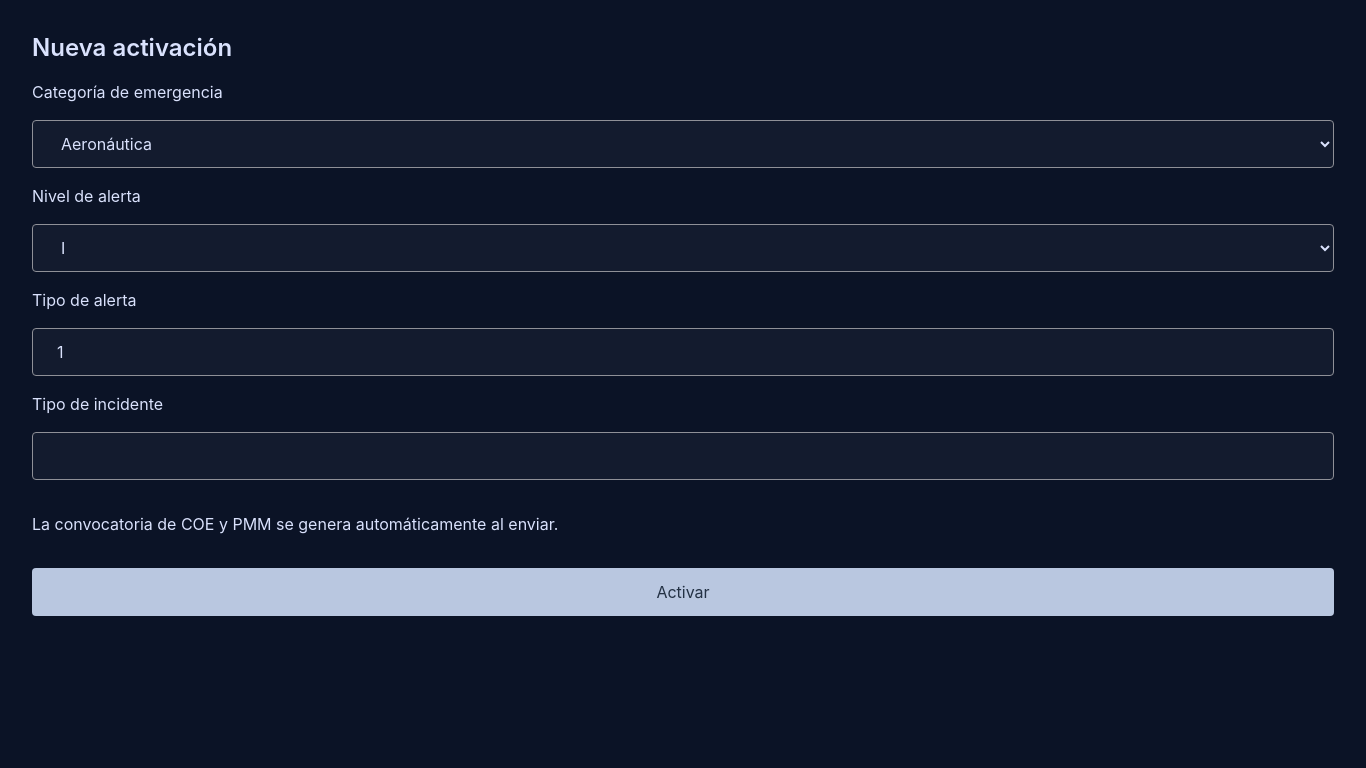
NuevaActivacionScreen › matpel: envia clasificacion_origen sin nivel_alerta/tipo_alerta
Select "MATPEL" in the dropdown labelled "Categoría de emergencia": (683, 144) [32,120,1334,168]
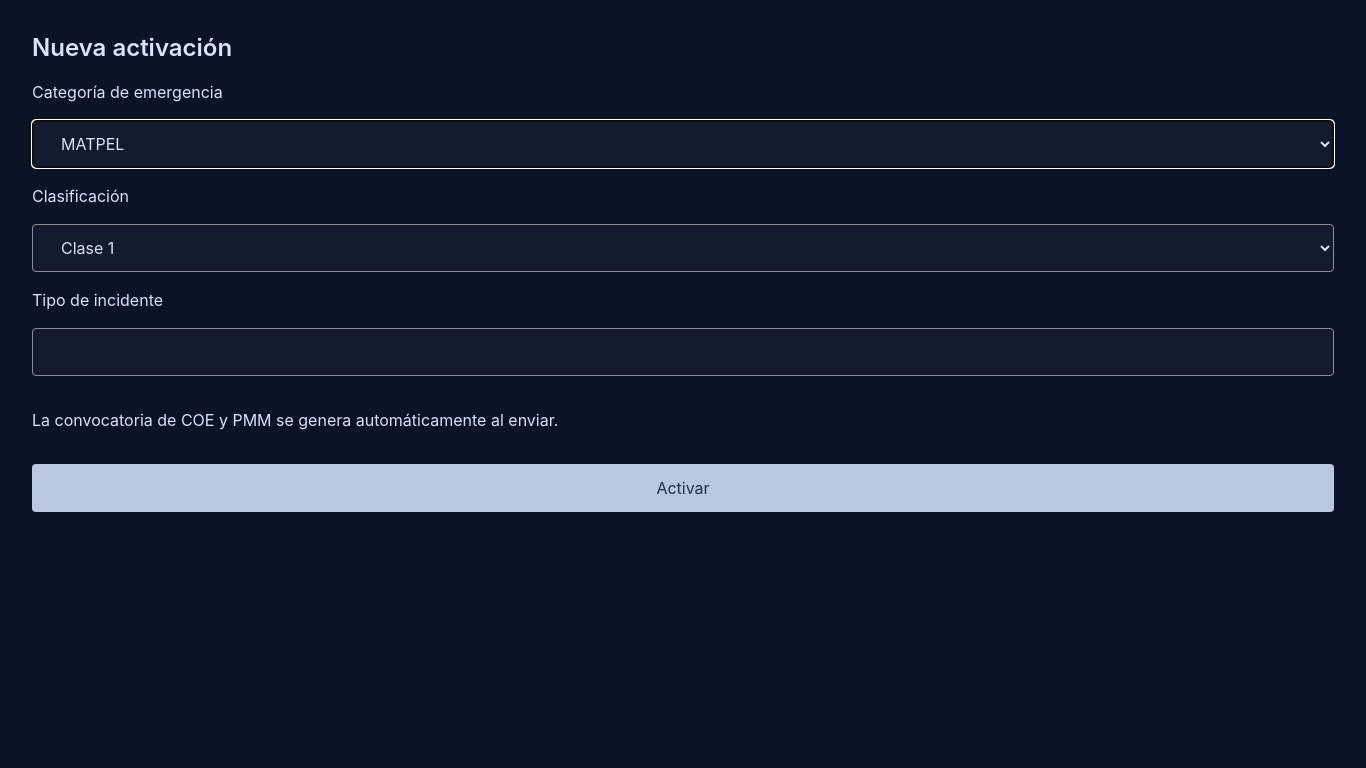
Select "Clase 3" in the dropdown labelled "Clasificación": (683, 248) [32,224,1334,272]
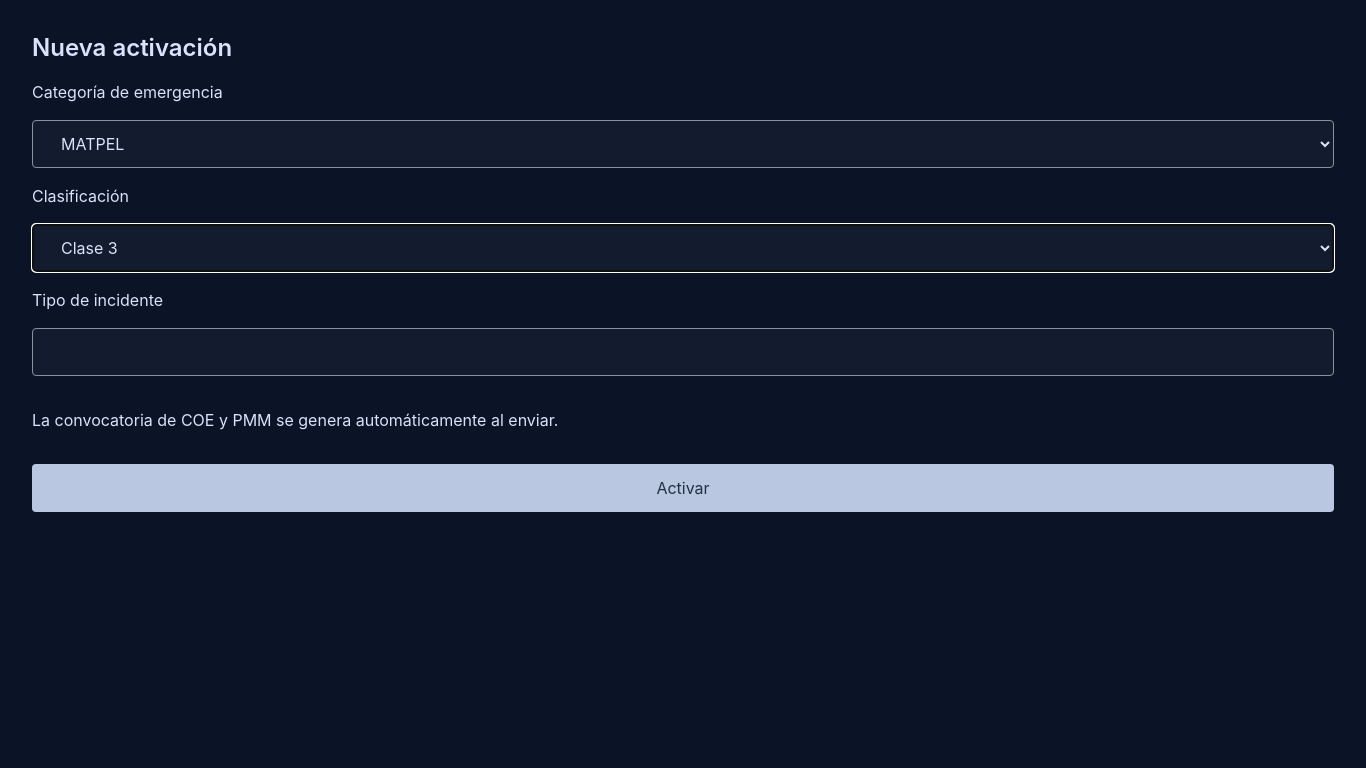
In the field labelled "Tipo de incidente": (683, 352) [32,328,1334,376], type "derrame de combustible"
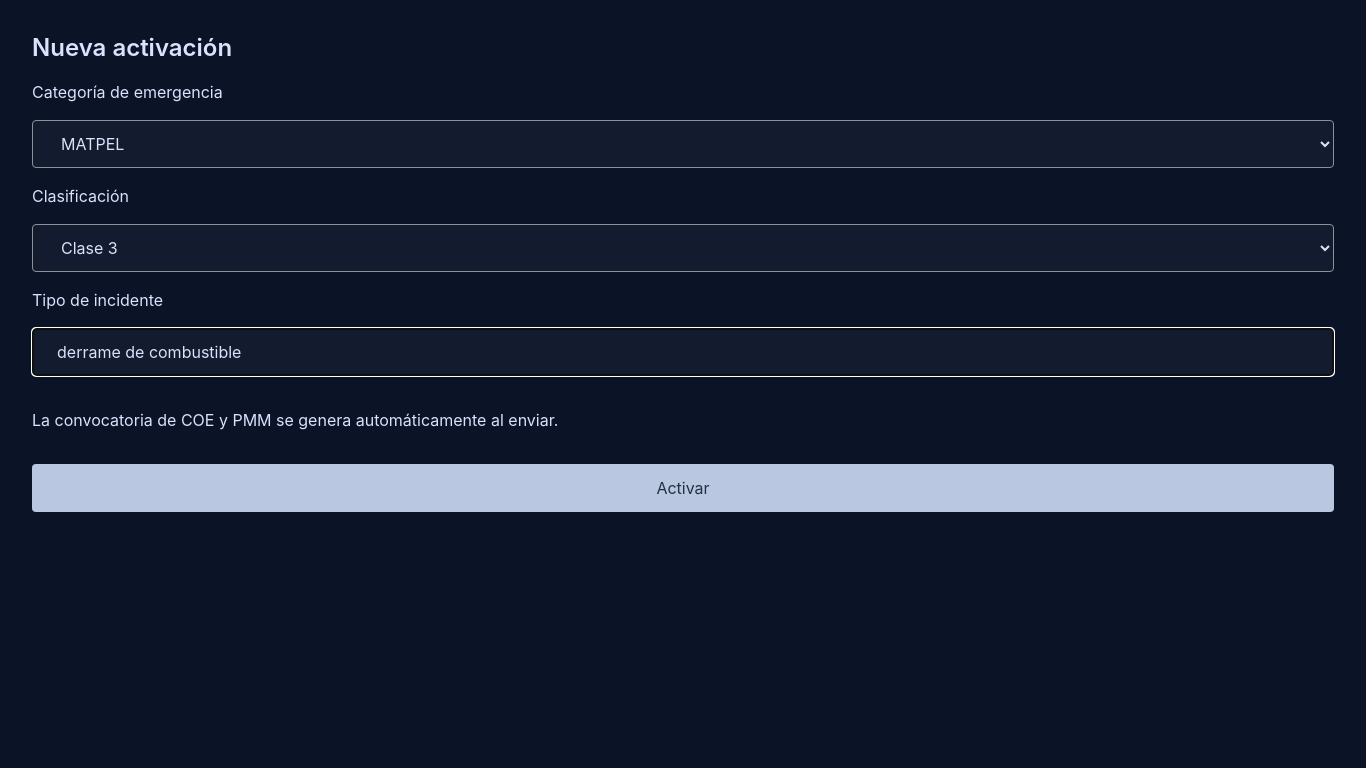
Click the button "Activar": (683, 488) [32,464,1334,512]
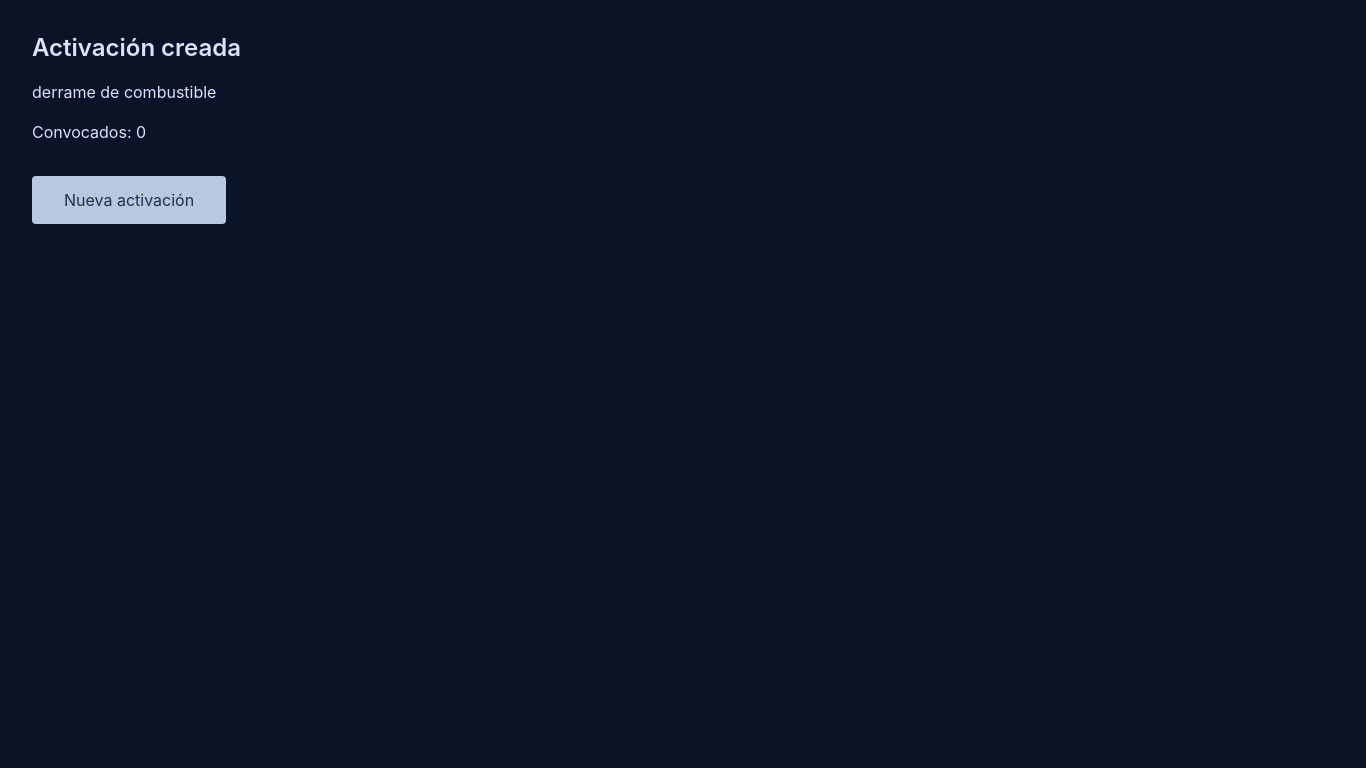
Now the text "Convocados: 0" is shown, box [32,122,146,142]
